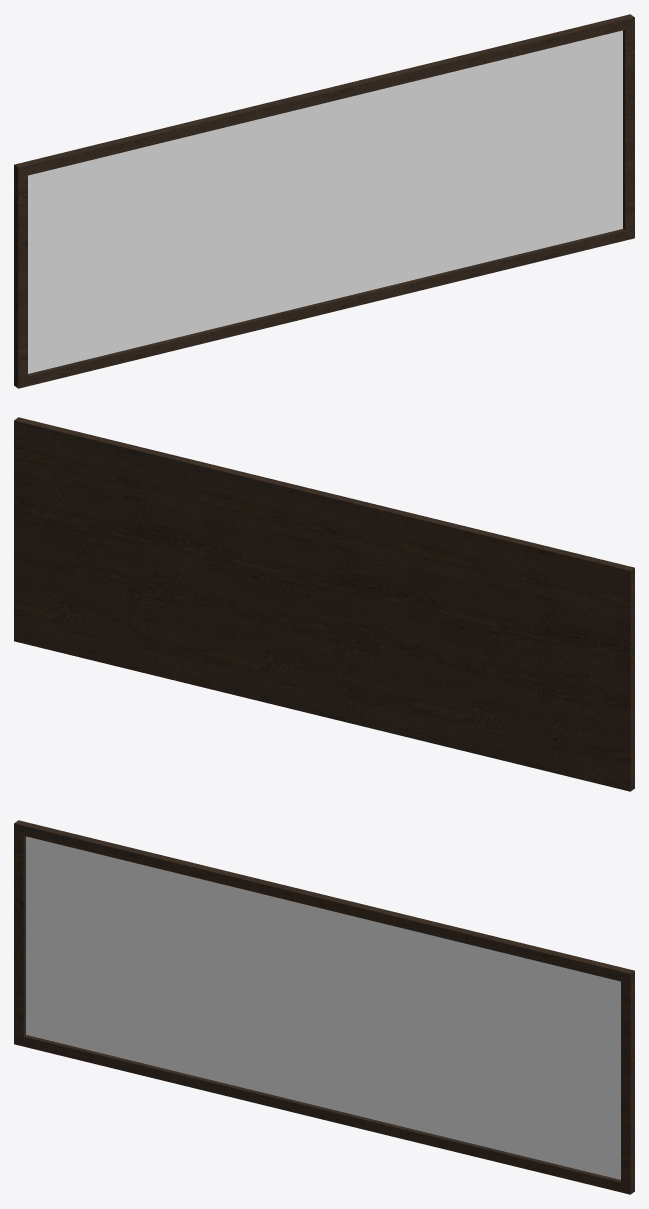
Rendered from WhiteBoard.fbx.
3 views of the same model, one above another, from view 1: azimuth 30°, elevation 25°; view 2: azimuth 150°, elevation 25°; view 3: azimuth 330°, elevation 25° (orthographic).
Parts seen in each view (by area): view 1: Whiteboard, WhiteboardFrame; view 2: WhiteboardFrame; view 3: Whiteboard, WhiteboardFrame.
Boxes of the visible parts, x1,y1,x2,y2 form: Whiteboard: [28, 30, 622, 373]; WhiteboardFrame: [14, 14, 634, 388]; WhiteboardFrame: [14, 417, 634, 791]; Whiteboard: [26, 836, 620, 1179]; WhiteboardFrame: [14, 820, 634, 1194].
Bounding box in the file's own units: 372 × 127 × 4.67.
Materials: 1 (1 with a texture image).
